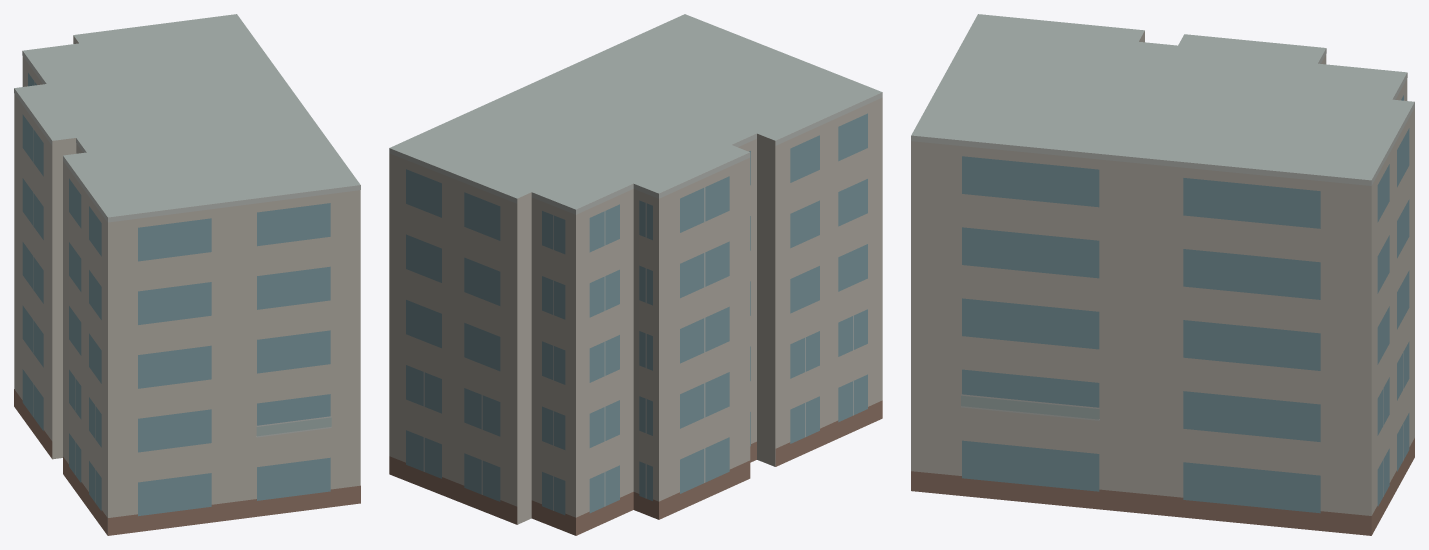
File: survey-upis-32625701.glb
3 views of the same model, side by side, from view 1: azimuth 30°, elevation 25°; view 2: azimuth 150°, elevation 25°; view 3: azimuth 270°, elevation 25° (orthographic). The views are drawn at different scales.
Visible parts, largest first — view 1: survey-upis-32625701.tmp; view 2: survey-upis-32625701.tmp; view 3: survey-upis-32625701.tmp.
Part boxes in pixels (x1,y1,x2,y2): survey-upis-32625701.tmp: (14,14,360,535); survey-upis-32625701.tmp: (389,14,882,535); survey-upis-32625701.tmp: (911,14,1414,535).
Size of the model in its own units: 15.47 by 15.4 by 19.79.
